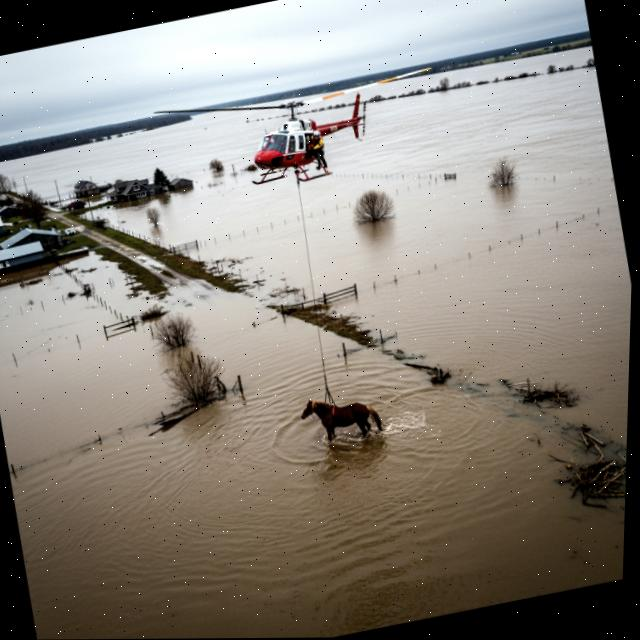horse: (284, 377, 409, 463)
rescuer: (305, 124, 337, 175)
